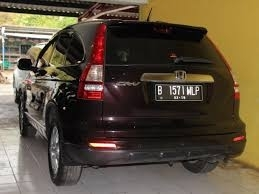plate: (157, 85, 201, 100)
